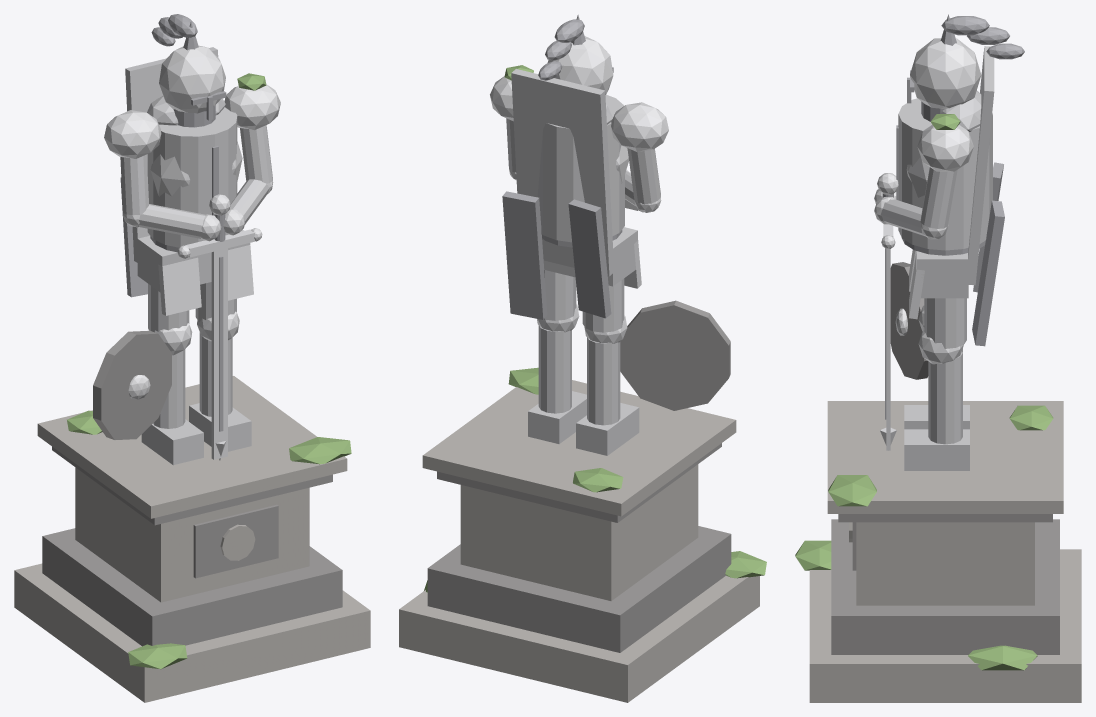
File: Statue.glb
3 views of the same model, side by side, from view 1: azimuth 30°, elevation 25°; view 2: azimuth 150°, elevation 25°; view 3: azimuth 270°, elevation 25° (orthographic). The views are drawn at different scales.
Visible parts, largest first — view 1: Statue_Tier1, Statue_Plinth, Statue_Tier2, Statue_Shaft, Statue_Torso, Statue_Shield, Statue_Panel, Statue_Helmet, Statue_Blade, Statue_Pauldron, Statue_Plate, Statue_Boot (+26 smaller); view 2: Statue_Plinth, Statue_Shaft, Statue_Tier1, Statue_Tier2, Statue_Cape, Statue_Shield, Statue_Torso, Statue_Fold, Statue_Fold.001, Statue_Pauldron, Statue_Helmet, Statue_Boot (+14 smaller); view 3: Statue_Plinth, Statue_Tier1, Statue_Shaft, Statue_Tier2, Statue_Torso, Statue_Helmet, Statue_Cape, Statue_Shield, Statue_Boot.001, Statue_Fold, Statue_Skirt, Statue_Pauldron.001 (+20 smaller).
Part boxes in pixels (x1,y1,x2,y2): Statue_Tier1: (14,563,370,702); Statue_Plinth: (37,376,347,518); Statue_Tier2: (42,528,342,646); Statue_Shaft: (75,467,309,602); Statue_Torso: (147,107,237,247); Statue_Shield: (93,330,171,439); Statue_Panel: (193,504,278,578); Statue_Helmet: (159,45,225,113); Statue_Blade: (211,248,227,459); Statue_Pauldron: (104,110,161,158); Statue_Plate: (158,257,201,315); Statue_Boot: (141,419,203,465); Statue_Plinth: (422,380,736,516); Statue_Shaft: (460,464,698,600); Statue_Tier1: (399,575,759,702); Statue_Tier2: (427,526,731,652); Statue_Cape: (511,69,614,276); Statue_Shield: (620,300,730,410); Statue_Torso: (537,94,624,242); Statue_Fold: (502,191,547,319); Statue_Fold.001: (568,199,611,318); Statue_Pauldron: (611,102,668,151); Statue_Helmet: (547,36,613,94); Statue_Boot: (576,403,639,455); Statue_Plinth: (827,401,1063,513); Statue_Tier1: (809,549,1081,702); Statue_Shaft: (856,522,1034,605); Statue_Tier2: (831,519,1059,654); Statue_Torso: (898,98,992,250); Statue_Helmet: (910,38,981,108); Statue_Cape: (965,46,994,285); Statue_Shield: (890,262,928,379); Statue_Boot.001: (904,429,969,470); Statue_Fold: (972,200,1004,346); Statue_Skirt: (917,251,968,298); Statue_Pauldron.001: (917,124,973,171).
Bounding box in the file's own units: 1.4 × 3.31 × 1.36.
